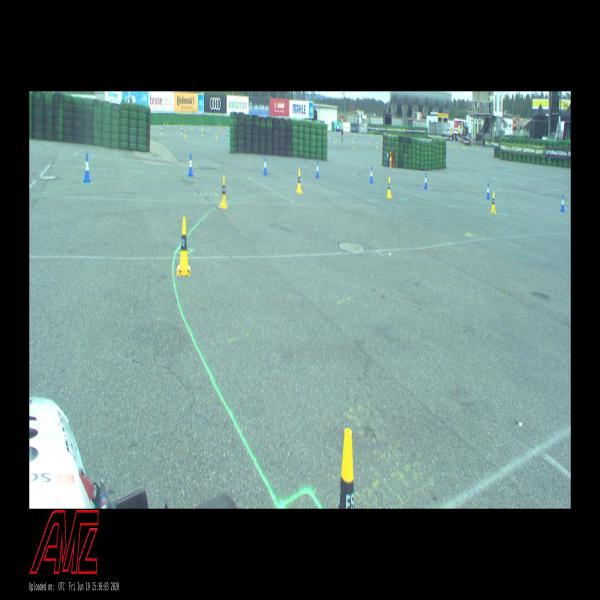blue_cone: (83, 153, 91, 183), (188, 153, 193, 177), (263, 157, 268, 176), (560, 194, 565, 213), (315, 160, 319, 178), (486, 183, 490, 200), (424, 173, 427, 190), (370, 167, 373, 184), (386, 150, 389, 160), (338, 134, 340, 140), (210, 126, 212, 132), (364, 136, 366, 141), (204, 128, 205, 135), (178, 122, 179, 128), (164, 122, 165, 128), (331, 136, 332, 142), (195, 126, 196, 131), (227, 131, 228, 136), (367, 137, 368, 141), (370, 137, 371, 141)
orange_cone: (220, 128, 222, 134)
yellow_cone: (338, 428, 354, 509), (176, 216, 191, 276), (219, 175, 228, 209), (296, 168, 302, 194), (490, 192, 496, 214), (386, 177, 392, 198), (215, 132, 217, 140), (390, 152, 392, 160), (202, 129, 204, 136), (376, 142, 378, 148), (368, 138, 370, 144), (452, 142, 454, 148), (208, 126, 210, 131), (464, 144, 466, 149), (185, 130, 186, 137), (334, 137, 335, 143), (449, 142, 450, 148), (181, 128, 182, 134), (353, 143, 354, 149), (463, 144, 464, 149), (192, 124, 193, 129), (477, 146, 478, 150), (352, 138, 352, 144)
